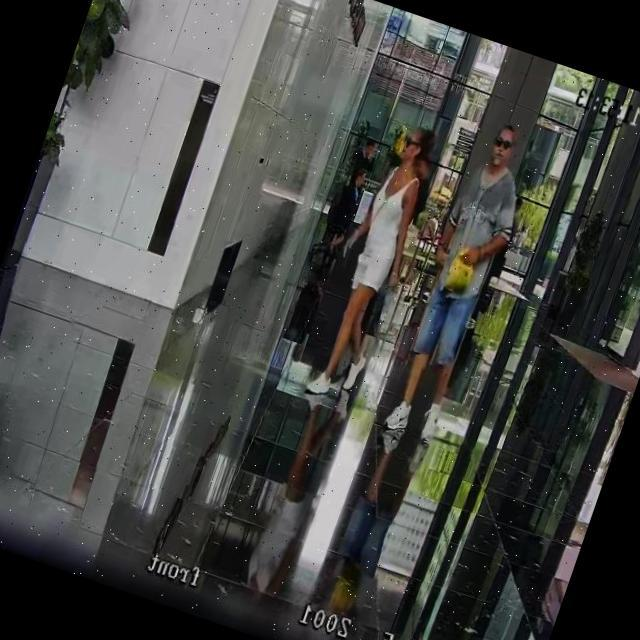person: (366, 114, 544, 470), (294, 116, 448, 410), (302, 152, 374, 294)
